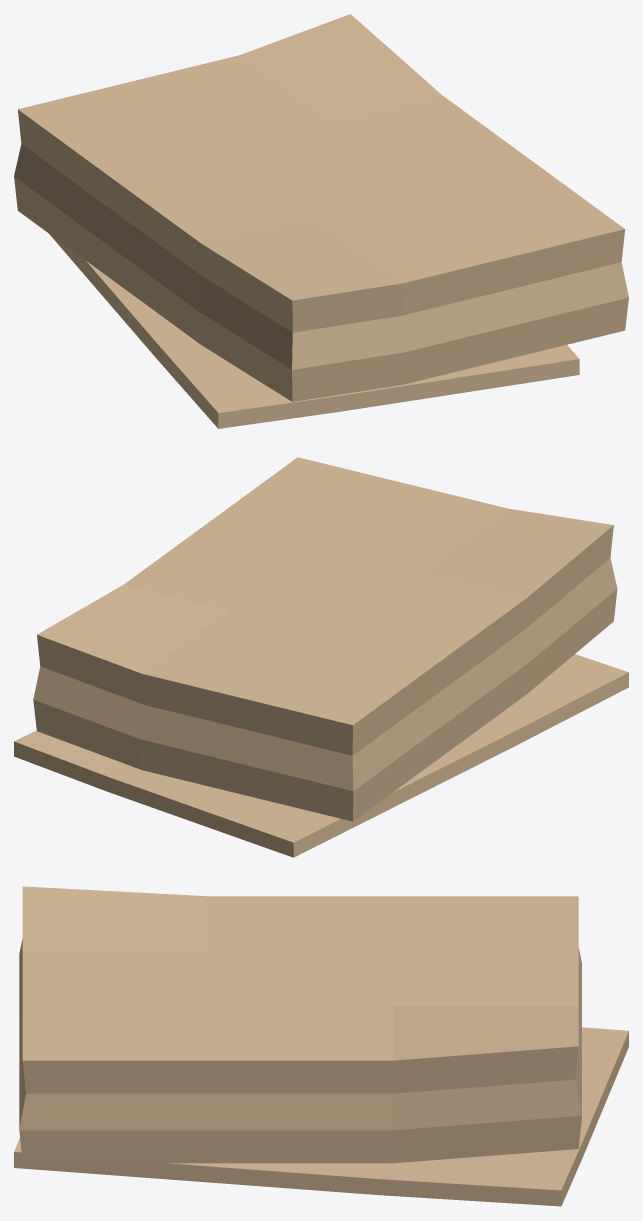
The model's file is resources-paper-old.glb.
3 renders of one model, top to bottom at view 1: azimuth 30°, elevation 25°; view 2: azimuth 150°, elevation 25°; view 3: azimuth 270°, elevation 25°, orthographic. The views are drawn at different scales.
Visible parts, largest first — view 1: paper-old; view 2: paper-old; view 3: paper-old.
Boxes of the visible parts, x1,y1,x2,y2 form: paper-old: [14, 14, 628, 428]; paper-old: [14, 457, 628, 857]; paper-old: [14, 886, 628, 1206].
Size of the model in its own units: 0.2588 by 0.0871 by 0.3319.
